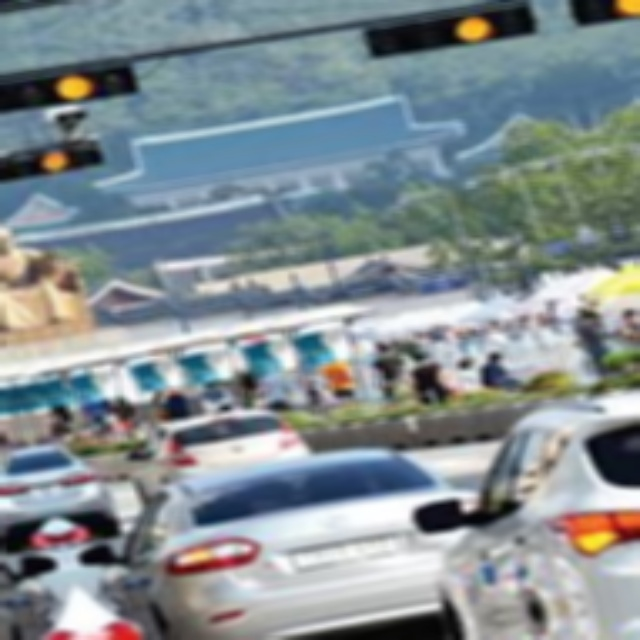yellow_light: (447, 13, 496, 45), (51, 72, 97, 101), (39, 149, 72, 171)
